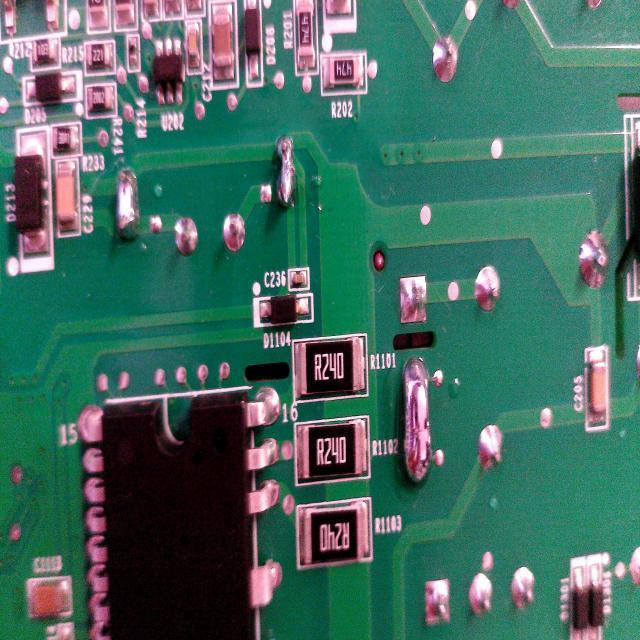Soldering shorted: (397, 348, 437, 494), (112, 164, 142, 247), (273, 136, 301, 214)
